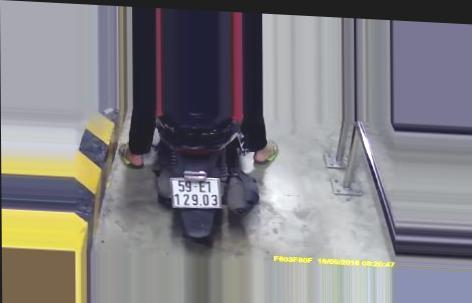License_Plate: (169, 173, 224, 213)
